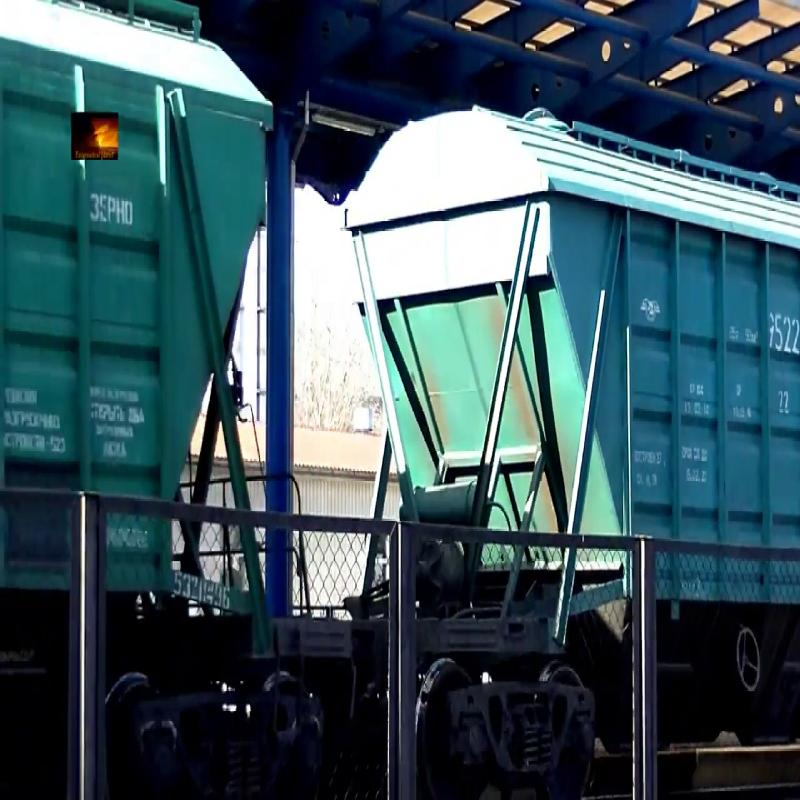train: (362, 12, 800, 774), (1, 10, 320, 776)
